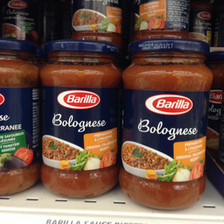tomato_sauce: (120, 40, 213, 211), (40, 40, 119, 200)
